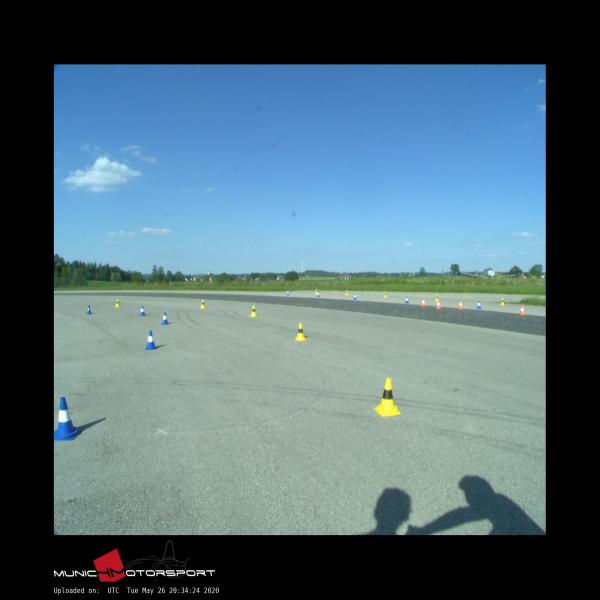blue_cone: (54, 398, 81, 440), (146, 330, 156, 350), (160, 312, 168, 324), (139, 306, 145, 315), (86, 305, 92, 314), (476, 300, 482, 309), (405, 296, 409, 304), (353, 294, 357, 300), (286, 290, 290, 295), (317, 292, 320, 297)
orange_cone: (519, 305, 525, 314), (436, 300, 441, 309), (421, 298, 426, 306), (458, 301, 463, 309)
yellow_cone: (374, 378, 400, 416), (294, 323, 306, 340), (250, 306, 257, 316), (115, 299, 120, 307), (200, 300, 205, 308), (500, 298, 505, 305), (383, 291, 387, 297), (345, 290, 349, 295), (315, 288, 318, 294), (436, 294, 438, 300)
